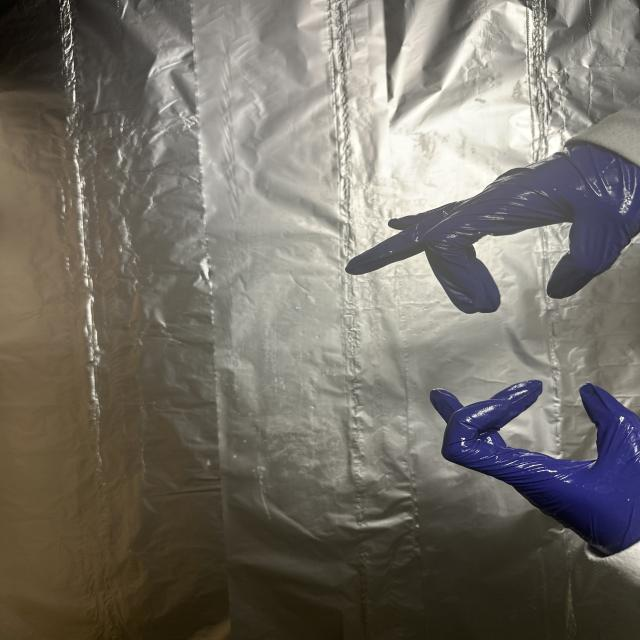gloves_contaminated: (346, 144, 640, 314), (430, 380, 640, 556)
